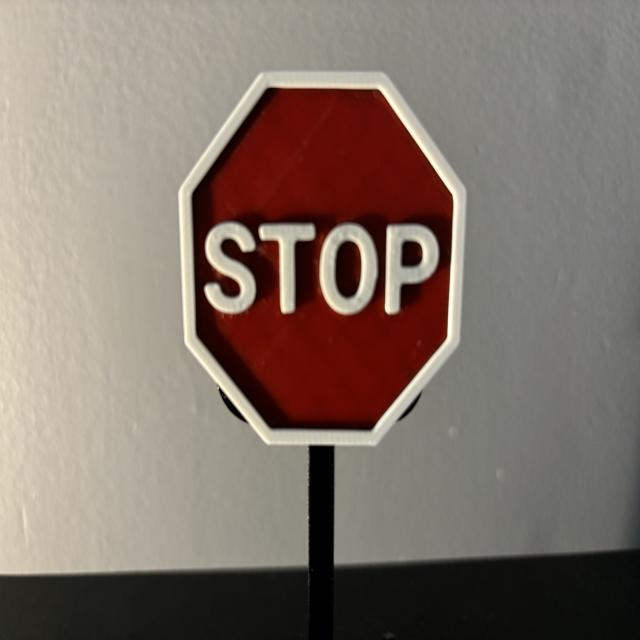sign_stop: (179, 71, 467, 446)
